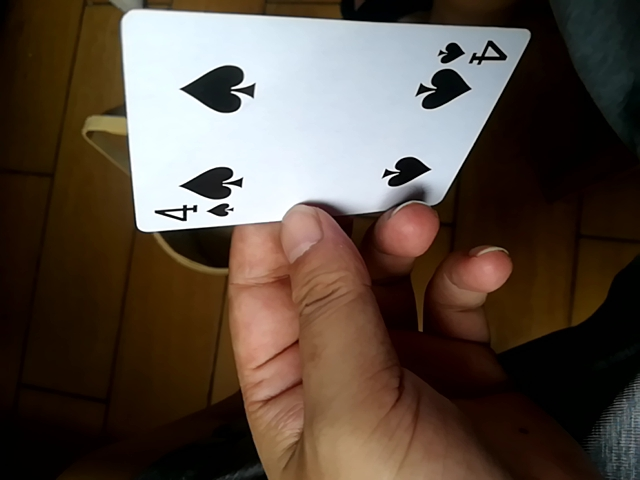ht 4: (116, 8, 527, 237)
